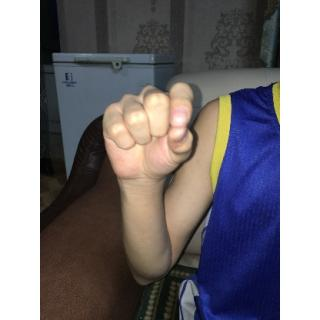FAA: (100, 80, 200, 190)
